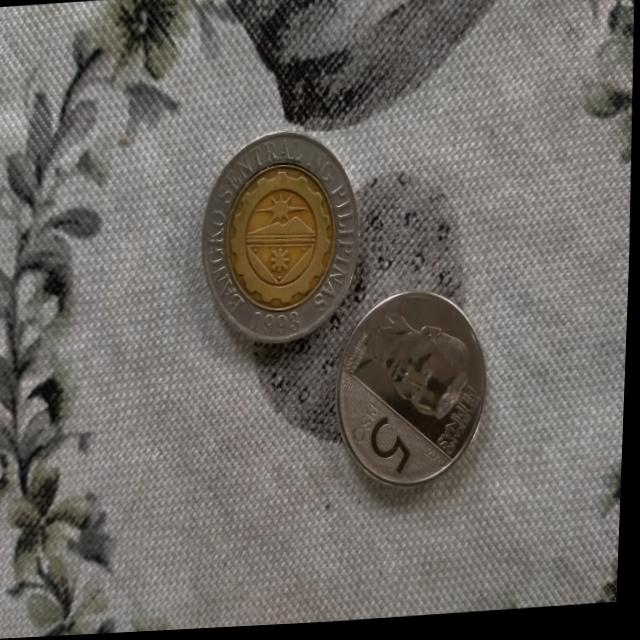10_Old_Back: (198, 129, 363, 348)
5_New_Front: (350, 406, 423, 480)
